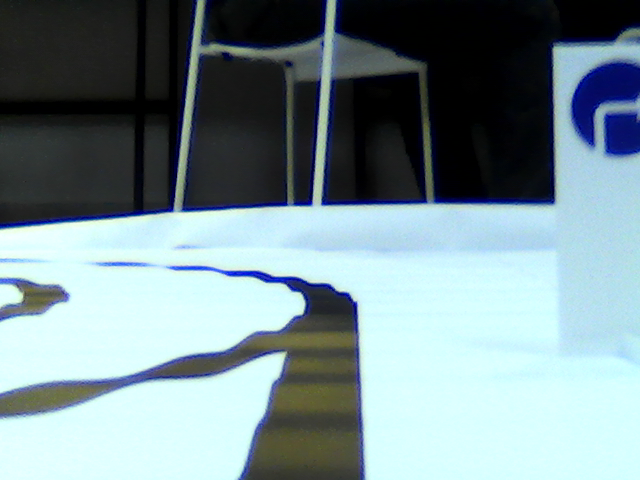Right: (571, 55, 640, 157)
